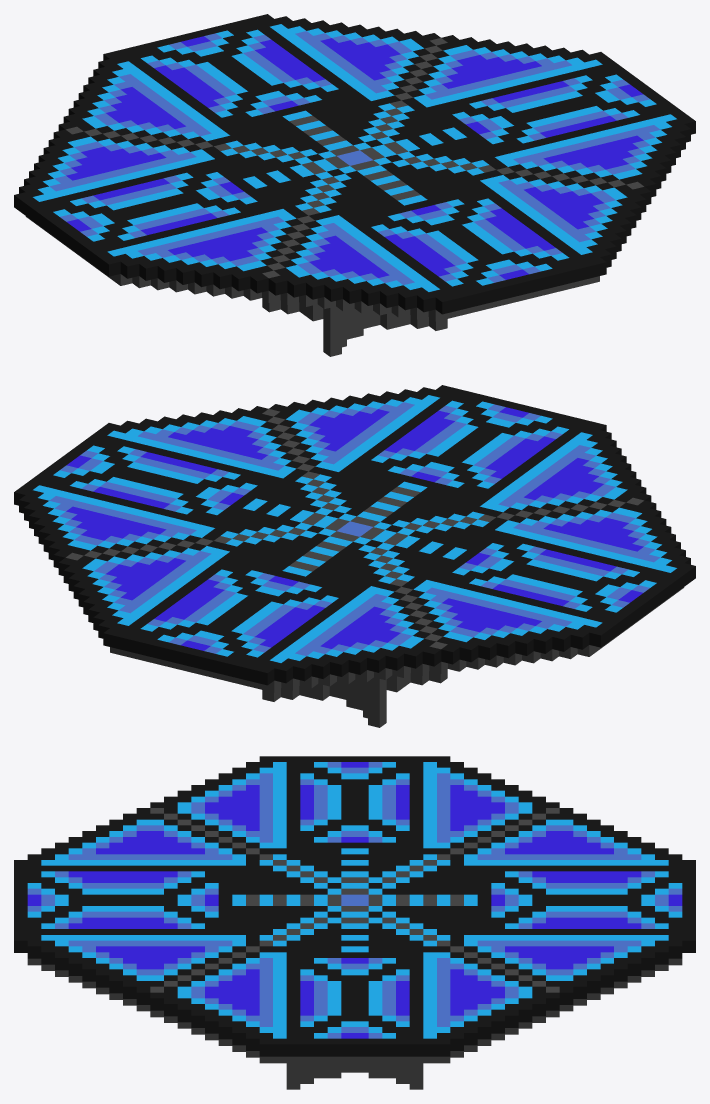
The model's file is platform new.obj.
3 views of the same model, one above another, from view 1: azimuth 30°, elevation 25°; view 2: azimuth 150°, elevation 25°; view 3: azimuth 270°, elevation 25° (orthographic).
Size of the model in its own units: 5 by 1.3 by 5.
1 material, 1 textured.
